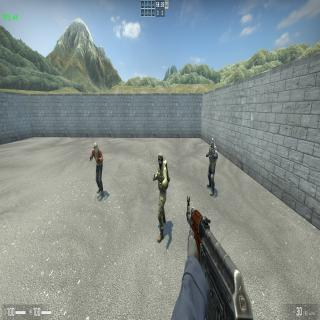CT-Body: (153, 152, 170, 244), (206, 138, 218, 198)
CT-Head: (158, 152, 163, 169), (210, 138, 214, 149)
T-Body: (90, 142, 105, 200)
T-Head: (94, 142, 98, 155)
